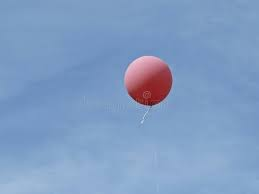Balloon: (124, 55, 173, 107)
